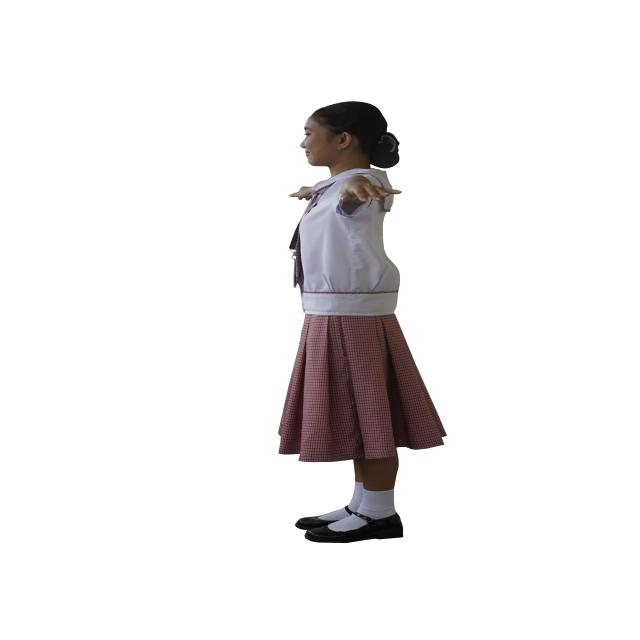pologirl: (292, 169, 403, 314)
shoes: (296, 513, 403, 543)
skirt: (279, 314, 446, 463), (304, 509, 403, 543), (293, 504, 388, 529)
